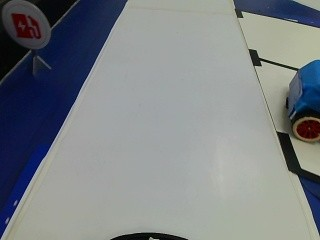battery: (0, 0, 49, 53)
car: (283, 58, 318, 137)
